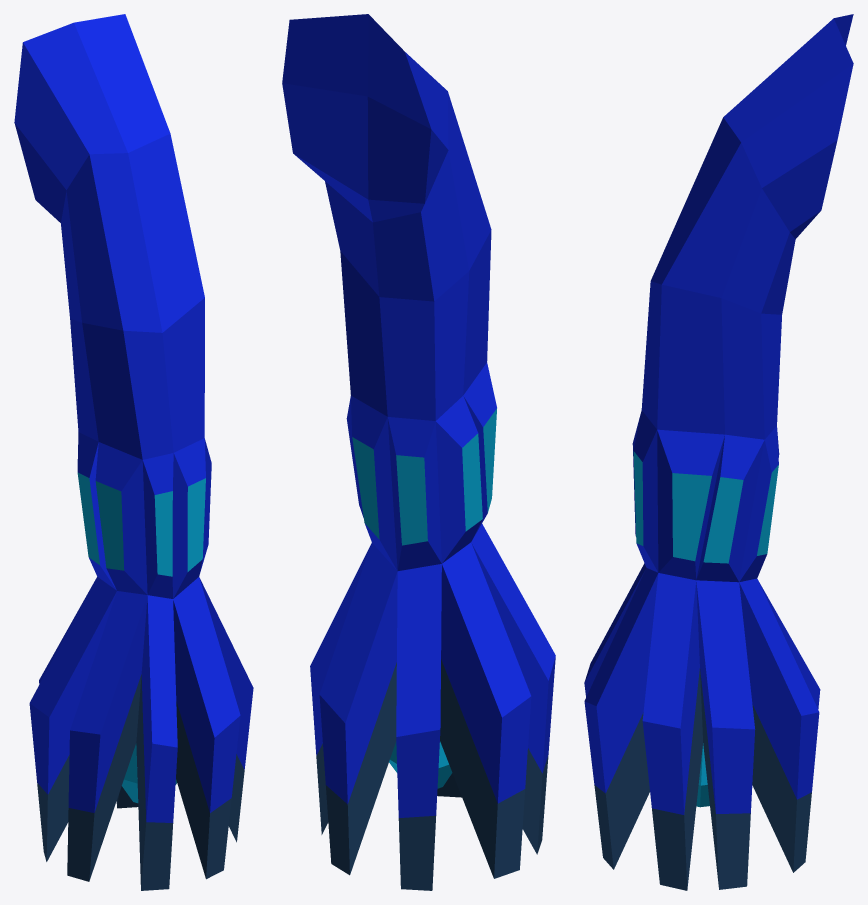
File: gunarm.fbx
3 renders of one model, left to right at view 1: azimuth 30°, elevation 25°; view 2: azimuth 150°, elevation 25°; view 3: azimuth 270°, elevation 25°, orthographic. The views are drawn at different scales.
Parts seen in each view (by area): view 1: Cube.001; view 2: Cube.001; view 3: Cube.001.
Part boxes in pixels (bbox=[...]): Cube.001: bbox=[14, 14, 253, 890]; Cube.001: bbox=[282, 14, 555, 890]; Cube.001: bbox=[584, 14, 853, 890].
Size of the model in its own units: 42.06 by 177 by 52.07.
